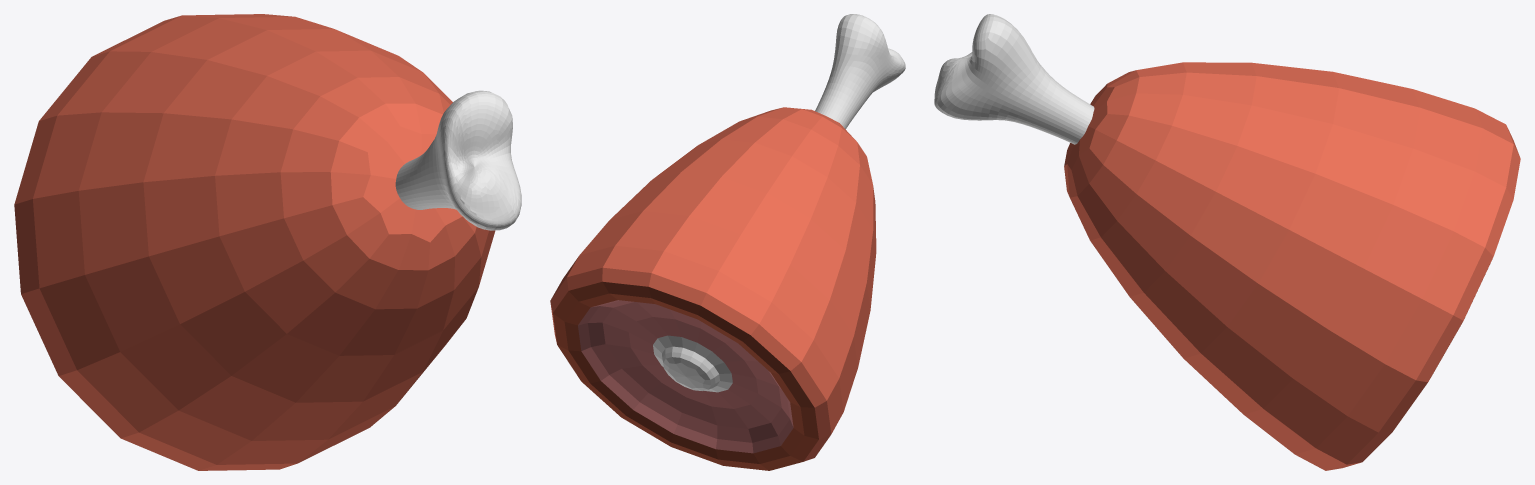
The model's file is Meat Spin.fbx.
The picture shows the model from 3 angles, left to right: view 1: azimuth 30°, elevation 25°; view 2: azimuth 150°, elevation 25°; view 3: azimuth 270°, elevation 25°; orthographic projection. The views are drawn at different scales.
Visible parts, largest first — view 1: Cylinder.187; view 2: Cylinder.187; view 3: Cylinder.187.
Part boxes in pixels (x1,y1,x2,y2): Cylinder.187: (14,14,521,470); Cylinder.187: (550,14,905,470); Cylinder.187: (934,14,1520,470).
Bounding box in the file's own units: 0.1416 × 0.174 × 0.2123.
